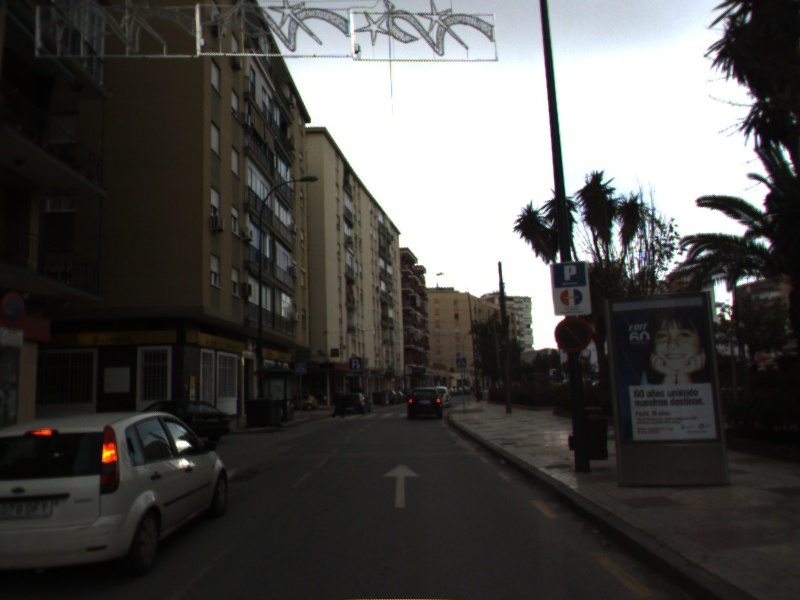STRAIGHT: (380, 462, 422, 510)
